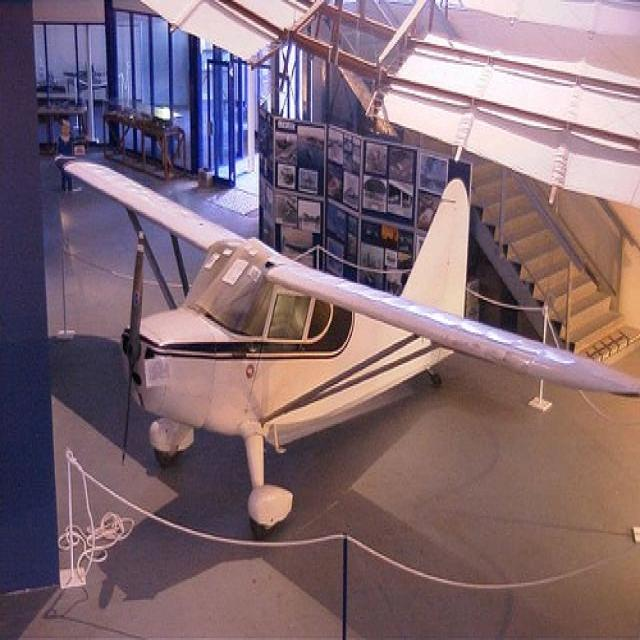aeroplane: (62, 157, 638, 542)
